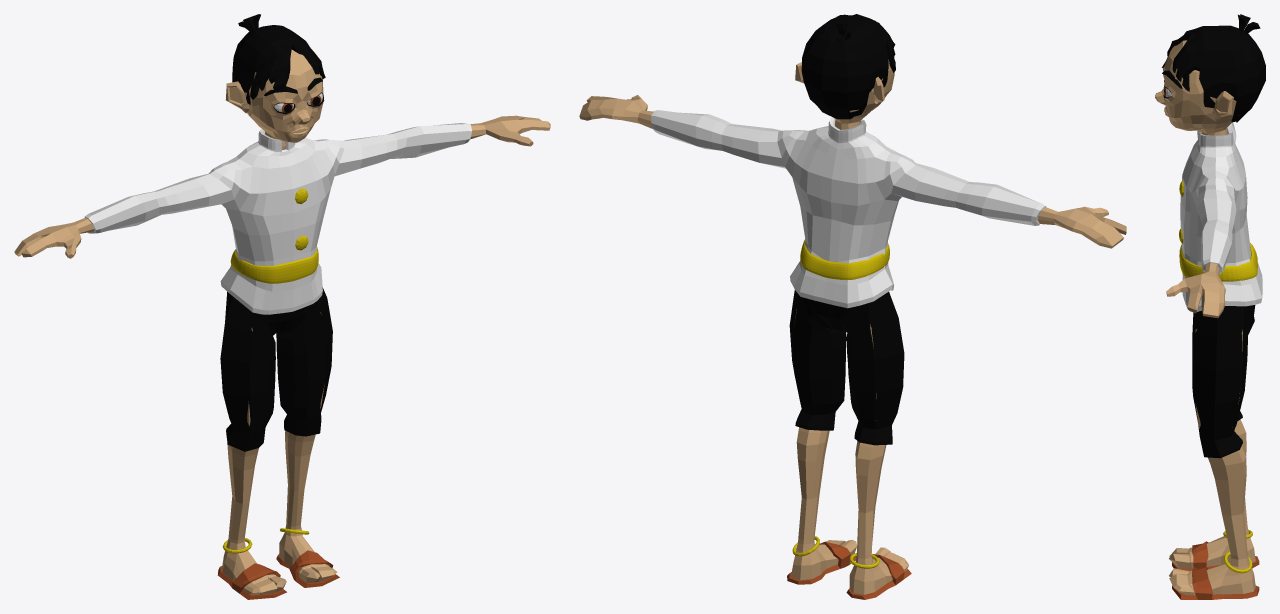
File: YoungerBrother_SpencerBarber.fbx
The picture shows the model from 3 angles, left to right: view 1: azimuth 30°, elevation 25°; view 2: azimuth 150°, elevation 25°; view 3: azimuth 270°, elevation 25°; orthographic projection. The views are drawn at different scales.
Parts seen in each view (by area): view 1: Mesh_YB_Shirt, Mesh_YB_Body, Mesh_YB_Pants, Mesh_YB_Hair, Mesh_YB_Belt, Mesh_YB_Shoe_R, Mesh_YB_Shoe_L; view 2: Mesh_YB_Shirt, Mesh_YB_Pants, Mesh_YB_Body, Mesh_YB_Hair, Mesh_YB_Belt, Mesh_YB_Shoe_R, Mesh_YB_Shoe_L; view 3: Mesh_YB_Body, Mesh_YB_Shirt, Mesh_YB_Pants, Mesh_YB_Hair, Mesh_YB_Belt, Mesh_YB_Shoe_L, Mesh_YB_Shoe_R, Mesh_YB_Ring_L.
Boxes of the visible parts, x1,y1,x2,y2 form: Mesh_YB_Shirt: [84, 123, 471, 314]; Mesh_YB_Body: [14, 49, 550, 594]; Mesh_YB_Pants: [220, 287, 332, 451]; Mesh_YB_Hair: [232, 14, 325, 104]; Mesh_YB_Belt: [230, 246, 318, 283]; Mesh_YB_Shoe_R: [217, 563, 286, 599]; Mesh_YB_Shoe_L: [276, 550, 339, 587]; Mesh_YB_Shirt: [651, 110, 1045, 308]; Mesh_YB_Pants: [789, 290, 904, 445]; Mesh_YB_Body: [579, 57, 1126, 594]; Mesh_YB_Hair: [801, 14, 895, 119]; Mesh_YB_Belt: [800, 239, 889, 279]; Mesh_YB_Shoe_R: [846, 554, 911, 599]; Mesh_YB_Shoe_L: [787, 541, 856, 584]; Mesh_YB_Body: [1155, 40, 1255, 595]; Mesh_YB_Shirt: [1180, 122, 1262, 311]; Mesh_YB_Pants: [1192, 305, 1255, 458]; Mesh_YB_Hair: [1167, 14, 1265, 122]; Mesh_YB_Belt: [1179, 242, 1257, 281]; Mesh_YB_Shoe_L: [1172, 567, 1259, 599]; Mesh_YB_Shoe_R: [1172, 541, 1259, 570]; Mesh_YB_Ring_L: [1224, 551, 1252, 573].
Size of the model in its own units: 11.71 by 11.69 by 2.11.
